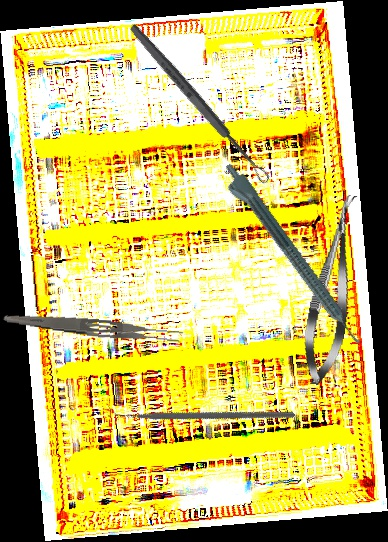Chopper: (106, 322, 296, 498)
Dressing Forceps: (1, 311, 185, 346)
Handpiece: (214, 160, 365, 354)
Micro Scissor: (296, 191, 369, 388)
Surgical Spoon: (126, 21, 273, 187)
